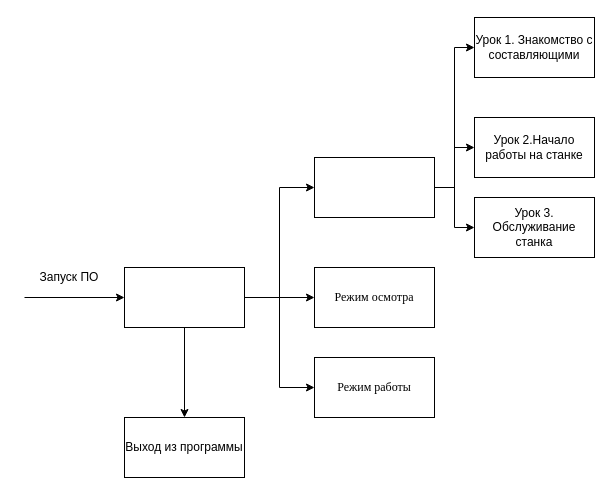
This 612x495 diagram has some shape labels left out. Here are the shapes that lost their labels. From the top down, the centre of each, then its label:
At [374,187]: "Режим обучения".
At [184,297]: "Главное меню".
